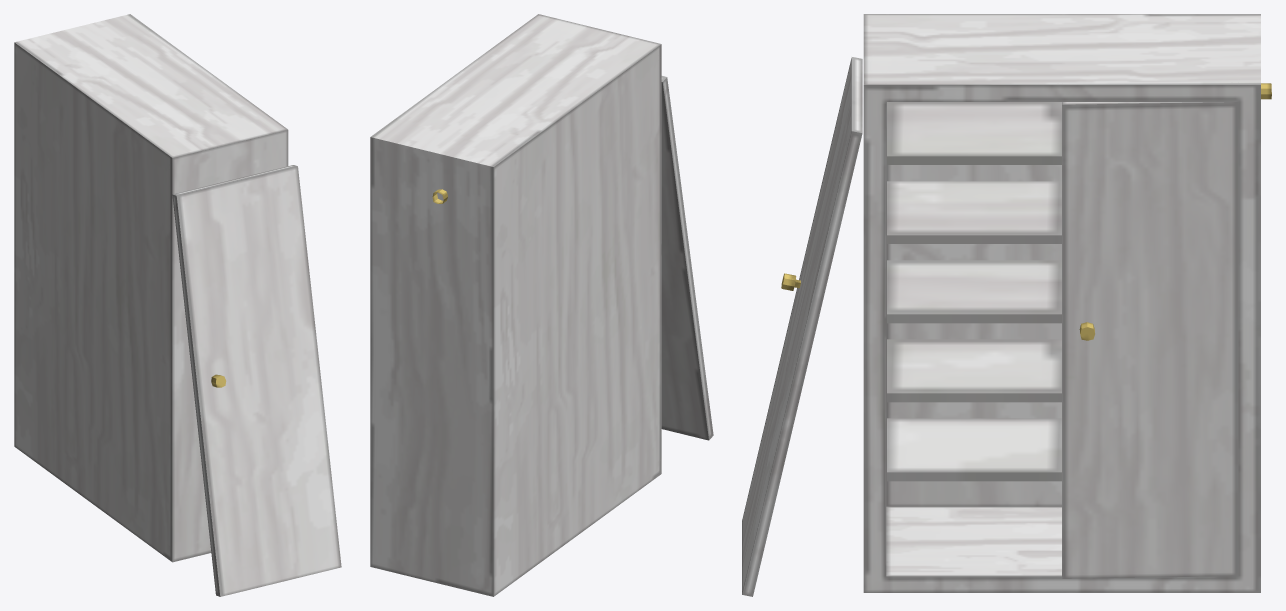
The model's file is closet.fbx.
The picture shows the model from 3 angles, left to right: view 1: azimuth 30°, elevation 25°; view 2: azimuth 150°, elevation 25°; view 3: azimuth 270°, elevation 25°; orthographic projection. The views are drawn at different scales.
Parts seen in each view (by area): view 1: Cube.010; view 2: Cube.010; view 3: Cube.010.
Boxes of the visible parts, x1=… form: Cube.010: x1=14, y1=14, x2=341, y2=596; Cube.010: x1=370, y1=14, x2=713, y2=596; Cube.010: x1=742, y1=14, x2=1271, y2=596.
Size of the model in its own units: 126 by 367 by 347.
1 material, 1 textured.
